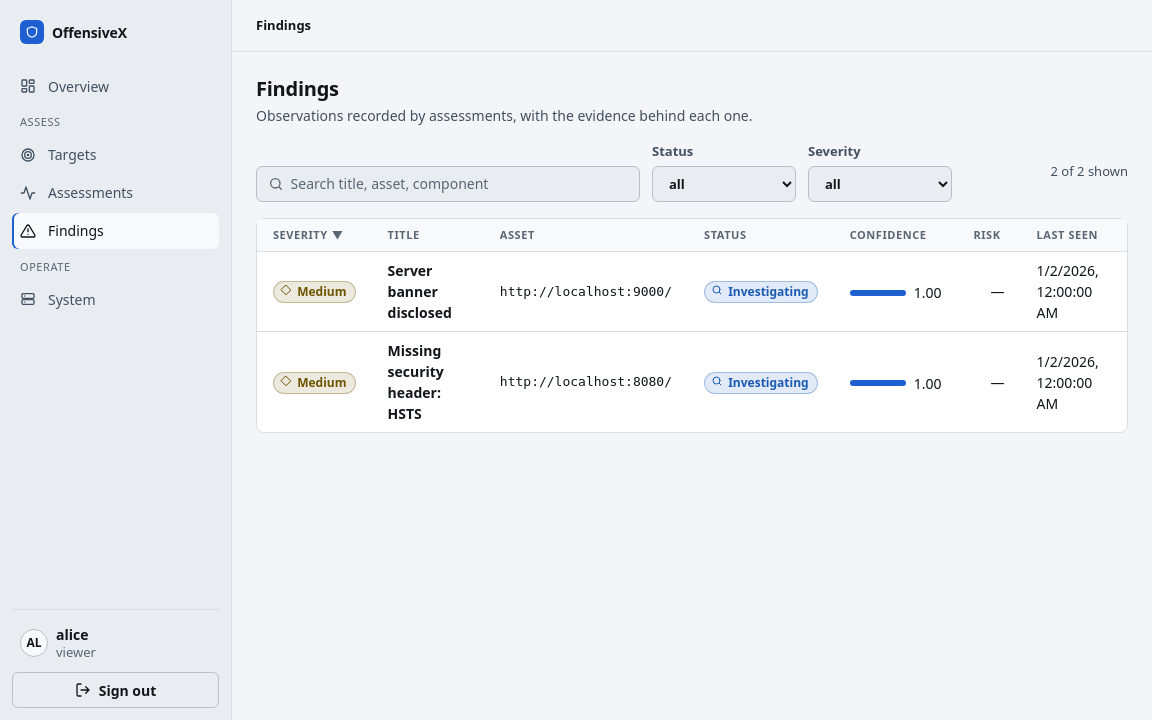
findings › filters the loaded findings with search and reports the count
Expected: the link "Server banner disclosed" is shown, [388, 261, 452, 322]
Expected: the text "2 of 2 shown" is shown, [1050, 162, 1128, 182]
Type "hsts" into the search field named "Search findings". click: x=448, y=184
box: [256, 166, 640, 202]
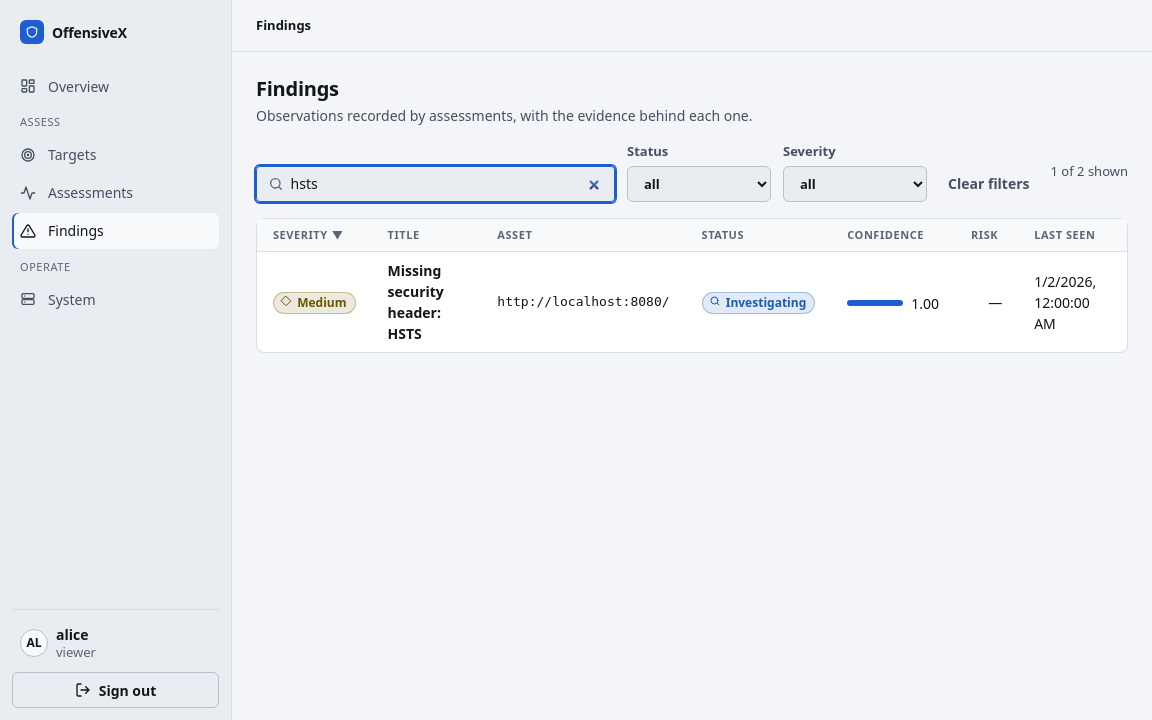
Expected: the link "Missing security header: HSTS" is shown, [388, 261, 444, 343]
Now the link "Server banner disclosed" is gone
Now the text "1 of 2 shown" is shown, box [1050, 162, 1128, 182]
